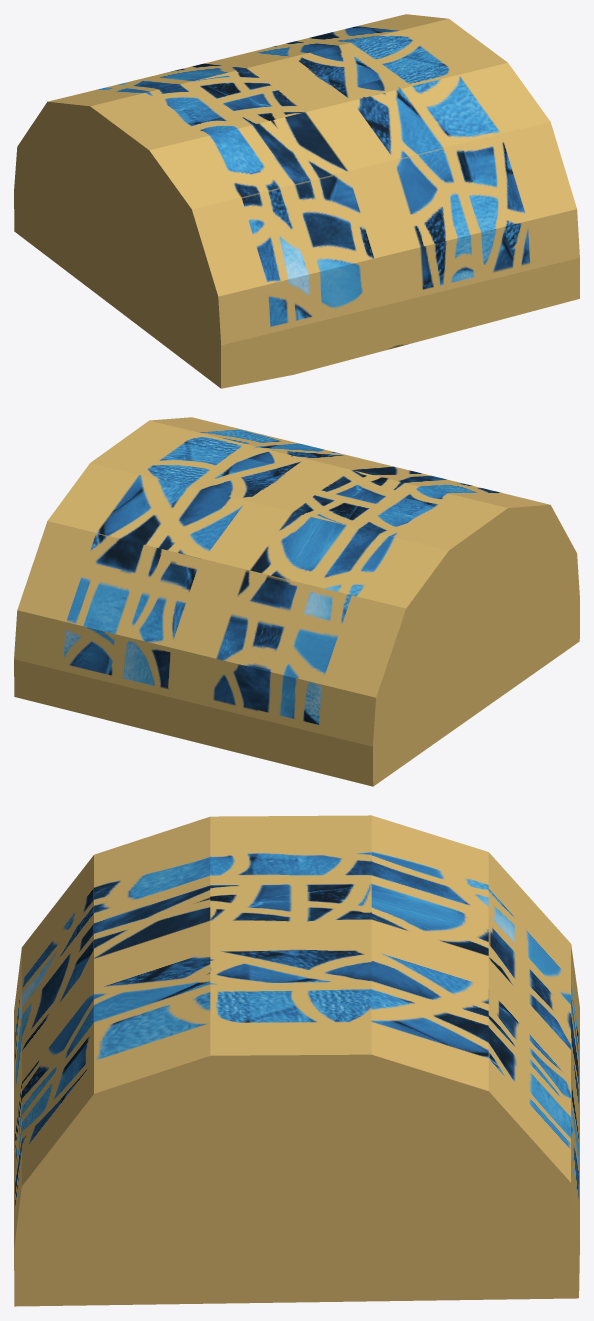
Rendered from chestTop1.glb.
3 renders of one model, top to bottom at view 1: azimuth 30°, elevation 25°; view 2: azimuth 150°, elevation 25°; view 3: azimuth 270°, elevation 25°, orthographic. The views are drawn at different scales.
Visible parts, largest first — view 1: chest01.001; view 2: chest01.001; view 3: chest01.001.
Boxes of the visible parts, x1,y1,x2,y2 form: chest01.001: (14, 14, 579, 388); chest01.001: (14, 417, 579, 786); chest01.001: (14, 815, 579, 1306).
Bounding box in the file's own units: 1 × 0.5074 × 1.
1 material, 1 textured.
